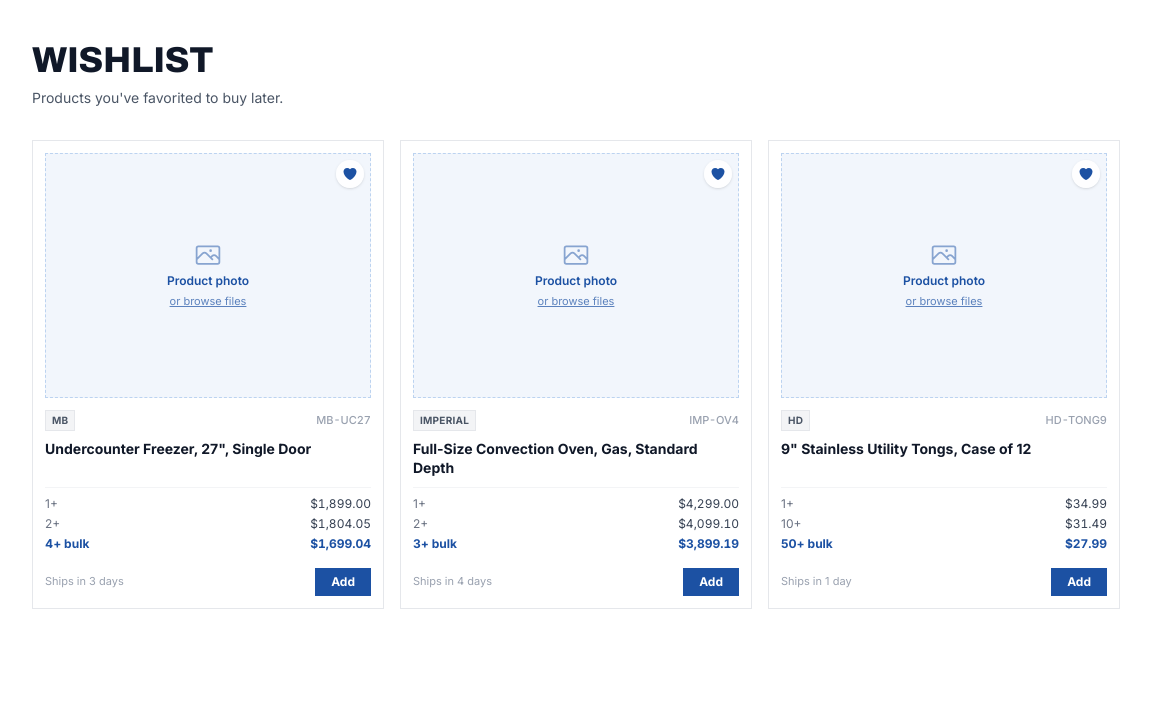
Scenario: WishlistPage › removes a product from view when its heart button is clicked
Click the 1st button named "Remove from wishlist": coordinates (350, 174) [336,160,364,188]
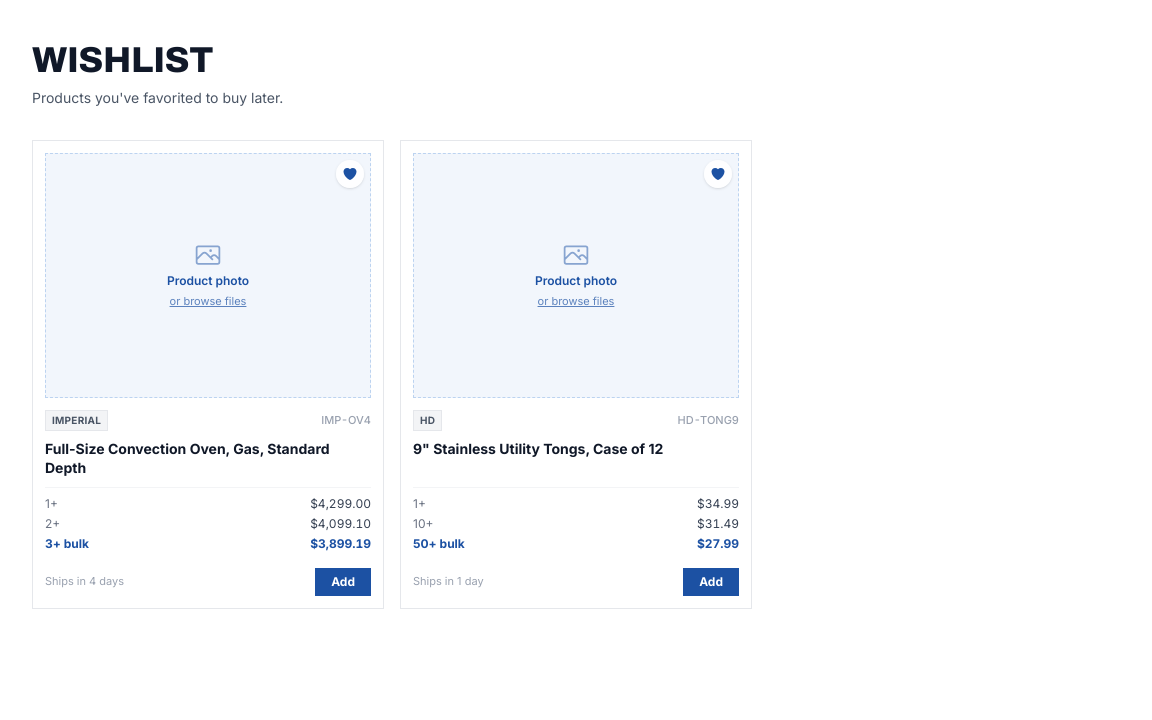
Check: the link "Undercounter Freezer, 27\", Single Door" is gone
